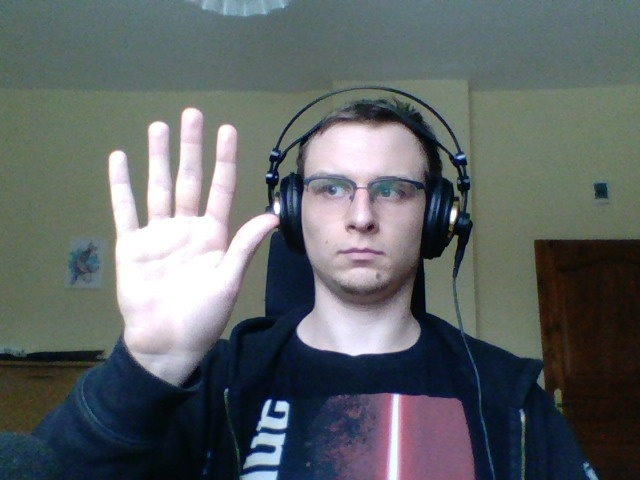hello: (96, 105, 287, 406)
